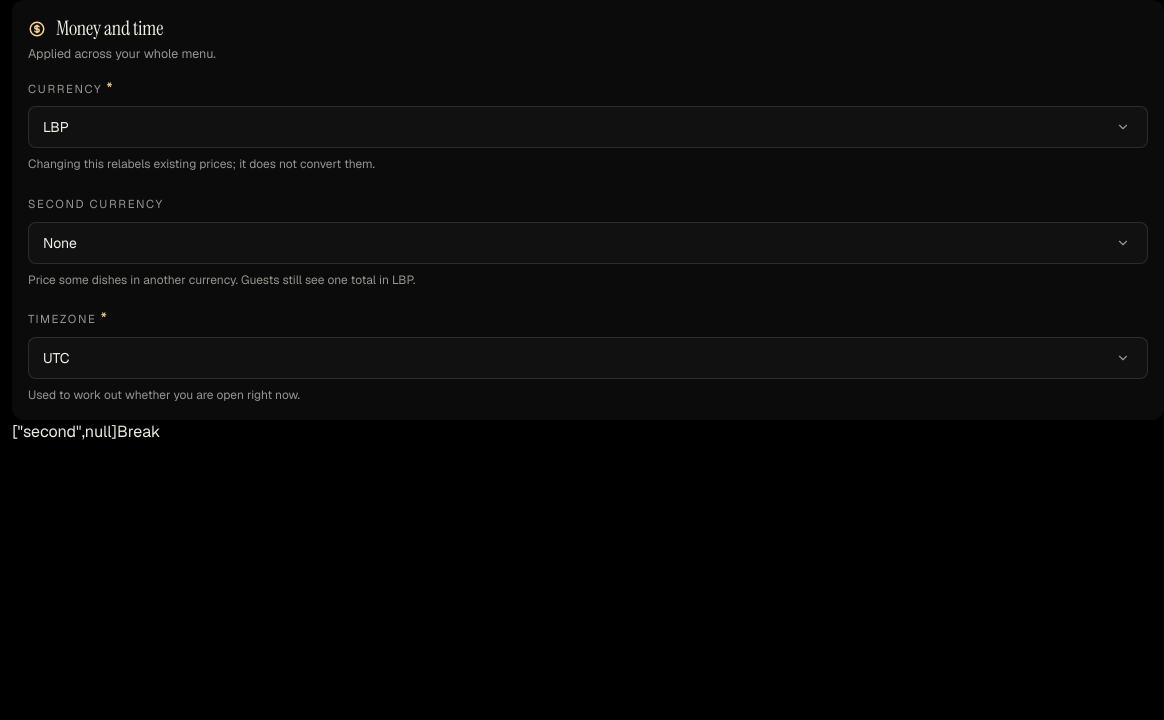
Test: MoneyTimeSection › a second currency › has none at first, and every currency but the main one to pick
The image size is (1164, 720).
Expected: the text "Guests still see one total in LBP" is shown, x1=28 y1=272 x2=415 y2=288
Step 1. Click the dropdown labelled "Second currency" → (588,243), box x1=29 y1=223 x2=1147 y2=263
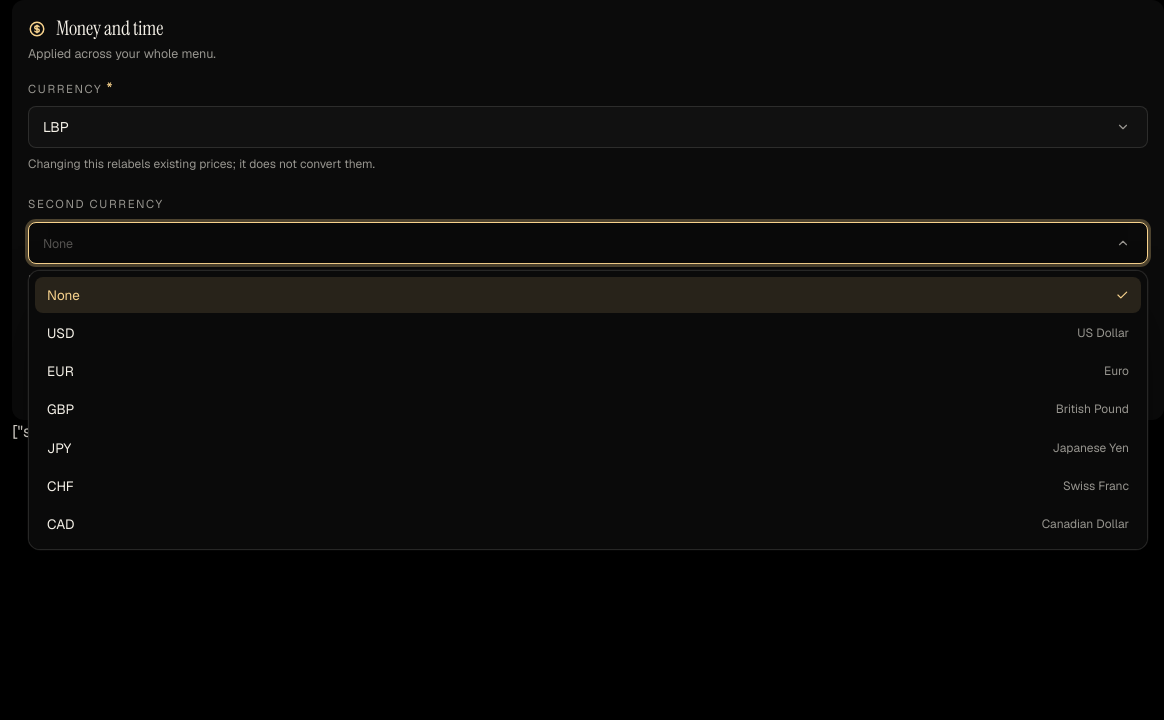
Expected: the text "None" is shown, x1=47 y1=285 x2=80 y2=305
